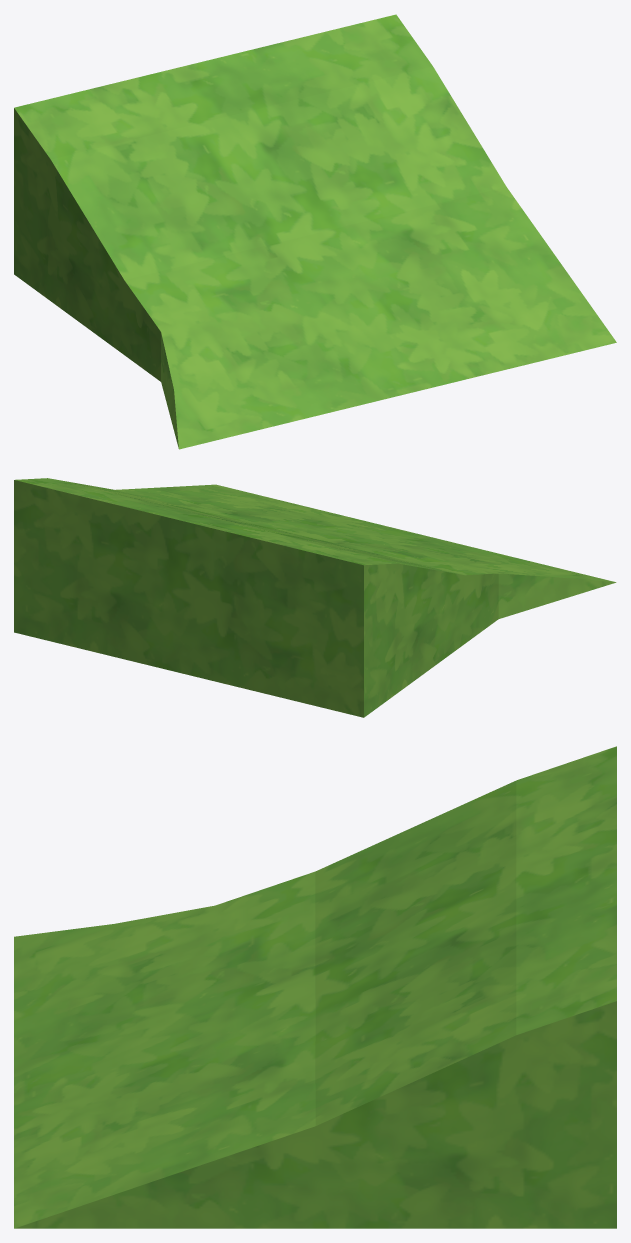
The model's file is Ramp_LeftSide_1x1x1.fbx.
The picture shows the model from 3 angles, top to bottom: view 1: azimuth 30°, elevation 25°; view 2: azimuth 150°, elevation 25°; view 3: azimuth 270°, elevation 25°; orthographic projection. The views are drawn at different scales.
Visible parts, largest first — view 1: Ramp_LeftSide_1x1x1; view 2: Ramp_LeftSide_1x1x1; view 3: Ramp_LeftSide_1x1x1.
Part boxes in pixels (x1,y1,x2,y2): Ramp_LeftSide_1x1x1: (14, 14, 616, 449); Ramp_LeftSide_1x1x1: (14, 478, 616, 717); Ramp_LeftSide_1x1x1: (14, 746, 616, 1228).
Size of the model in its own units: 3.44 by 3 by 1.25.
